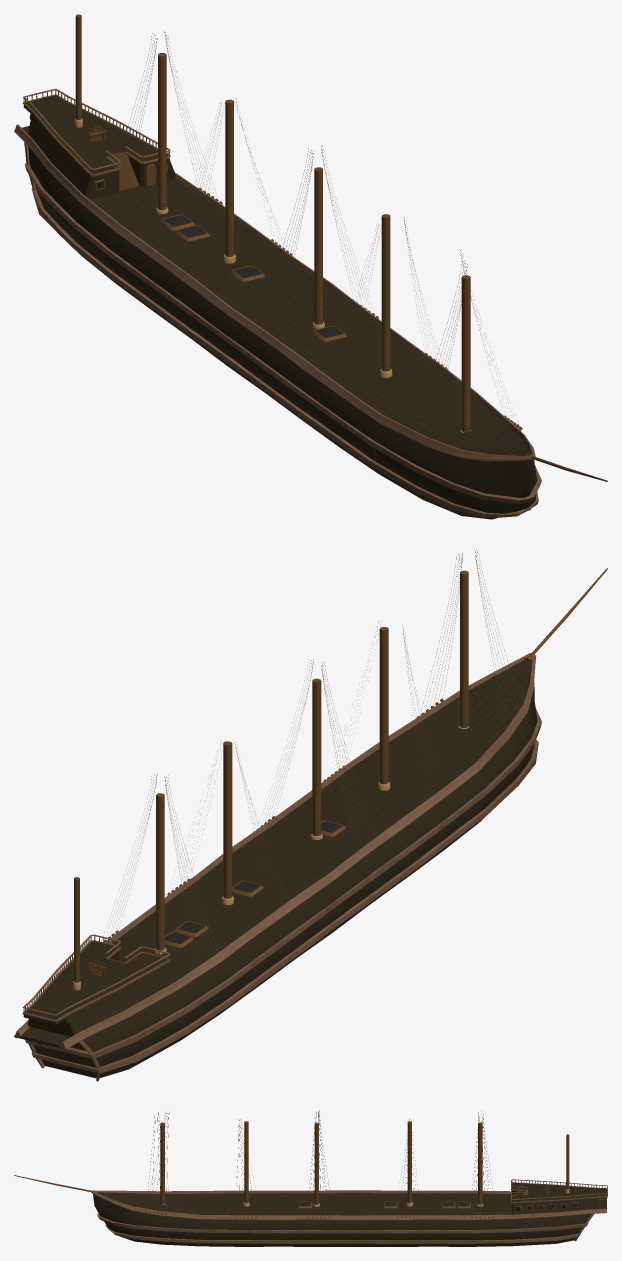
The model's file is CUSMANGEMISI222.fbx.
The picture shows the model from 3 angles, top to bottom: view 1: azimuth 30°, elevation 25°; view 2: azimuth 150°, elevation 25°; view 3: azimuth 270°, elevation 25°; orthographic projection. The views are drawn at different scales.
Visible parts, largest first — view 1: Hull, çıta.003, Hull.001, çıta.006, yelken.001, yelken.002, yelken.003, çıta.004, Cylinder.003, çıta.002; view 2: Hull, çıta.003, Hull.001, yelken.001, yelken.002, çıta.006, yelken.003, çıta.002, çıta.004, Cylinder.003, ip.005; view 3: Hull, çıta.003, Hull.001, çıta.006, yelken.001, yelken.002, yelken.003, ip.001, çıta.004, ip.005, çıta.002, ip.003 (+1 smaller).
Boxes of the visible parts, x1,y1,x2,y2 form: Hull: (22,95,473,473); çıta.003: (14,124,475,465); Hull.001: (374,397,537,519); çıta.006: (369,392,541,517); yelken.001: (74,14,235,263); yelken.002: (312,167,392,377); yelken.003: (460,275,471,432); çıta.004: (23,88,170,169); Cylinder.003: (23,90,169,174); çıta.002: (23,94,170,176); Hull: (18,746,483,1078); çıta.003: (14,742,487,1073); Hull.001: (388,660,537,821); yelken.001: (72,741,233,990); yelken.002: (310,627,390,839); çıta.006: (388,653,541,814); yelken.003: (458,570,469,728); çıta.002: (22,940,170,1022); çıta.004: (22,934,170,1015); Cylinder.003: (23,936,169,1020); ip.005: (421,549,530,743); Hull: (200,1182,606,1246); çıta.003: (201,1190,606,1243); Hull.001: (93,1192,200,1246); çıta.006: (91,1190,200,1243); yelken.001: (406,1121,569,1206); yelken.002: (243,1121,319,1206); yelken.003: (160,1122,165,1204); ip.001: (472,1111,493,1216); çıta.004: (511,1179,607,1199); ip.005: (146,1112,169,1211); çıta.002: (511,1182,607,1203); ip.003: (308,1110,329,1216).
Bounding box in the file's own units: 3.29 × 6.12 × 26.65.
